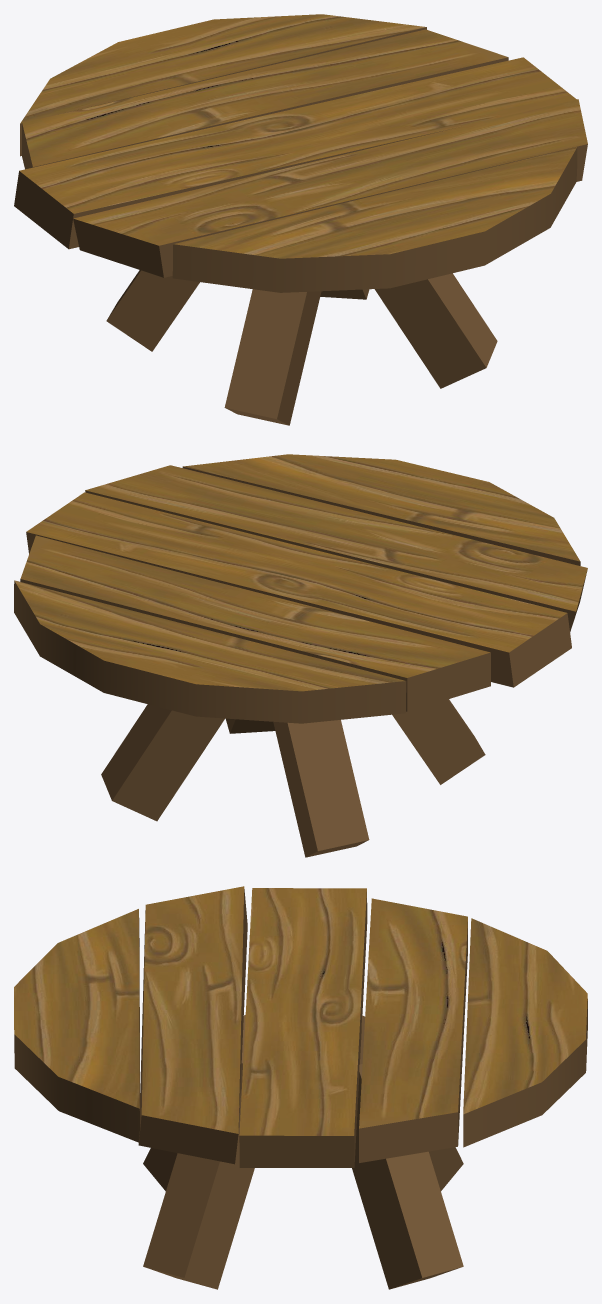
File: Table.fbx
The picture shows the model from 3 angles, top to bottom: view 1: azimuth 30°, elevation 25°; view 2: azimuth 150°, elevation 25°; view 3: azimuth 270°, elevation 25°; orthographic projection. The views are drawn at different scales.
Visible parts, largest first — view 1: Pieds; view 2: Pieds; view 3: Pieds.
Boxes of the visible parts, x1,y1,x2,y2 form: Pieds: (14, 14, 587, 425); Pieds: (14, 454, 587, 857); Pieds: (14, 886, 587, 1289).
Bounding box in the file's own units: 523 × 226 × 512.
2 materials, 1 textured.
